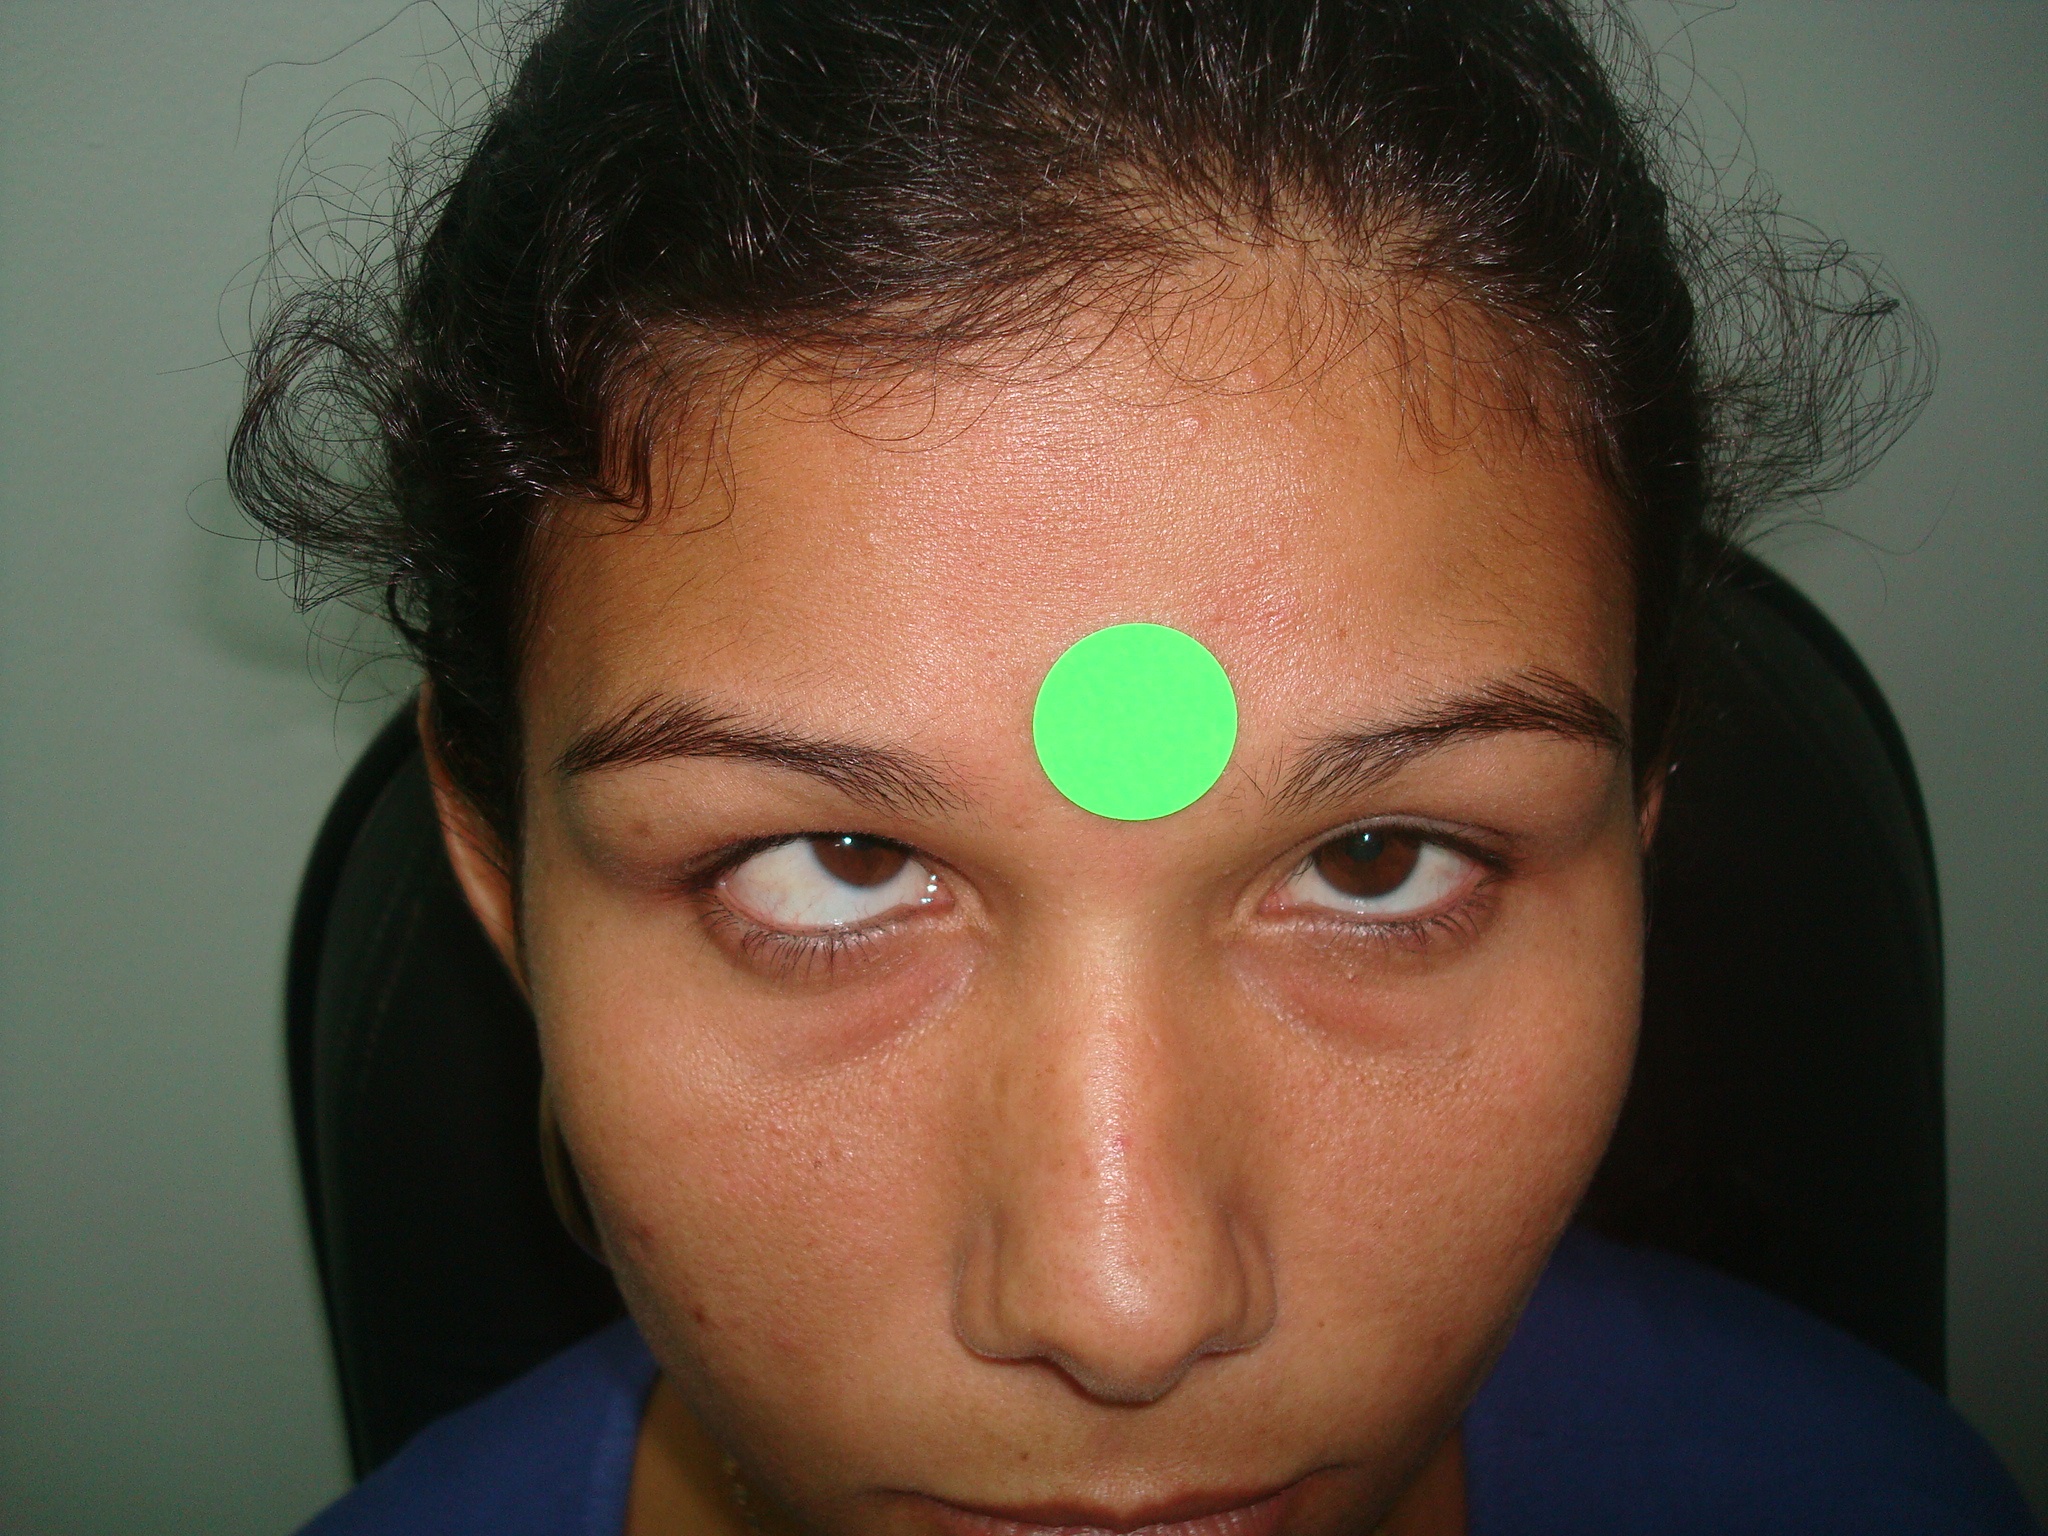flash: (842, 834, 853, 847), (1361, 831, 1372, 844)
limbo: (1309, 800, 1417, 889), (811, 794, 910, 883)
